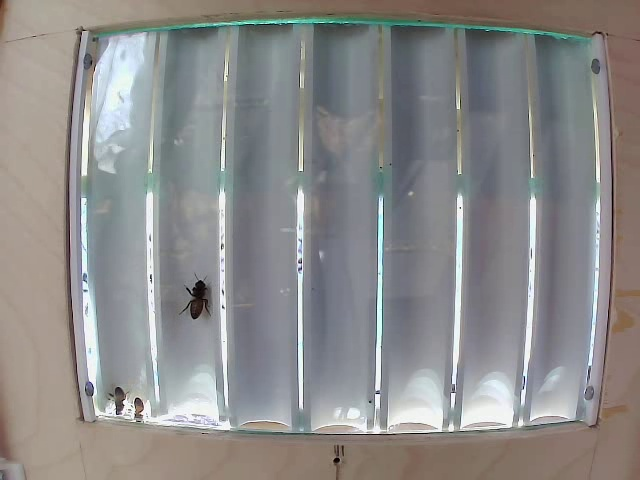bee: (183, 267, 226, 328)
